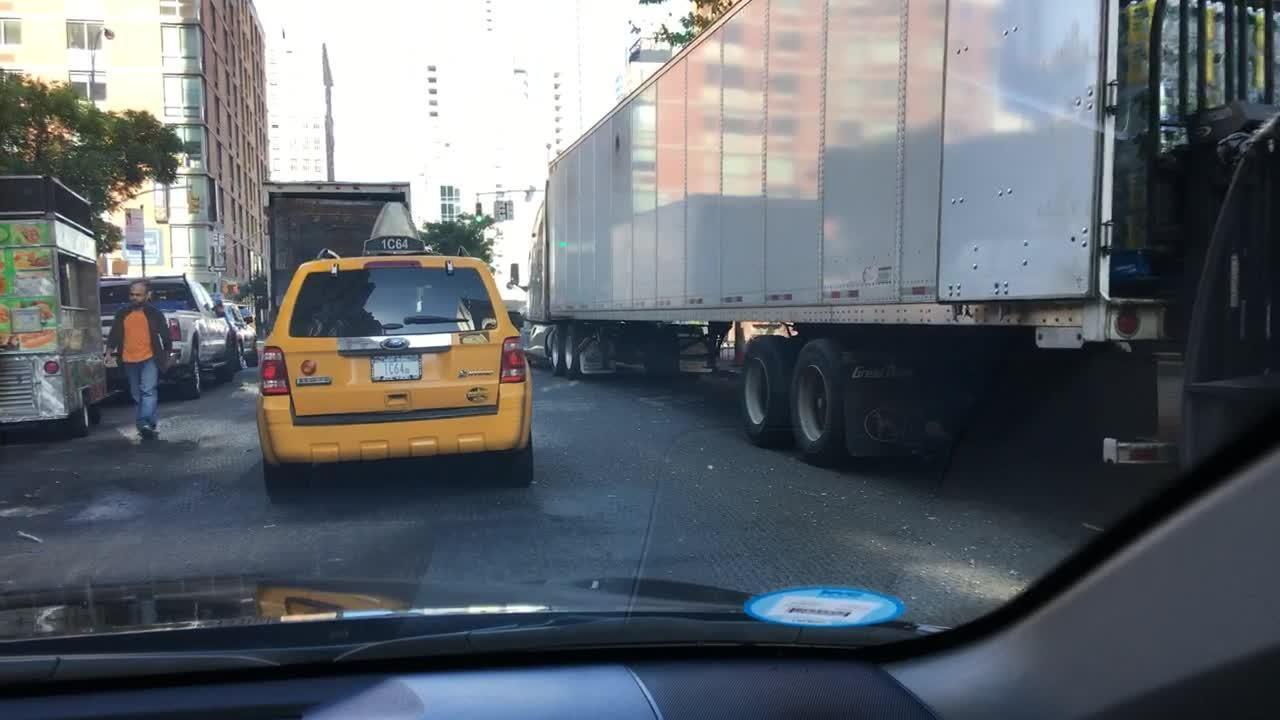ford: (379, 337, 411, 352)
